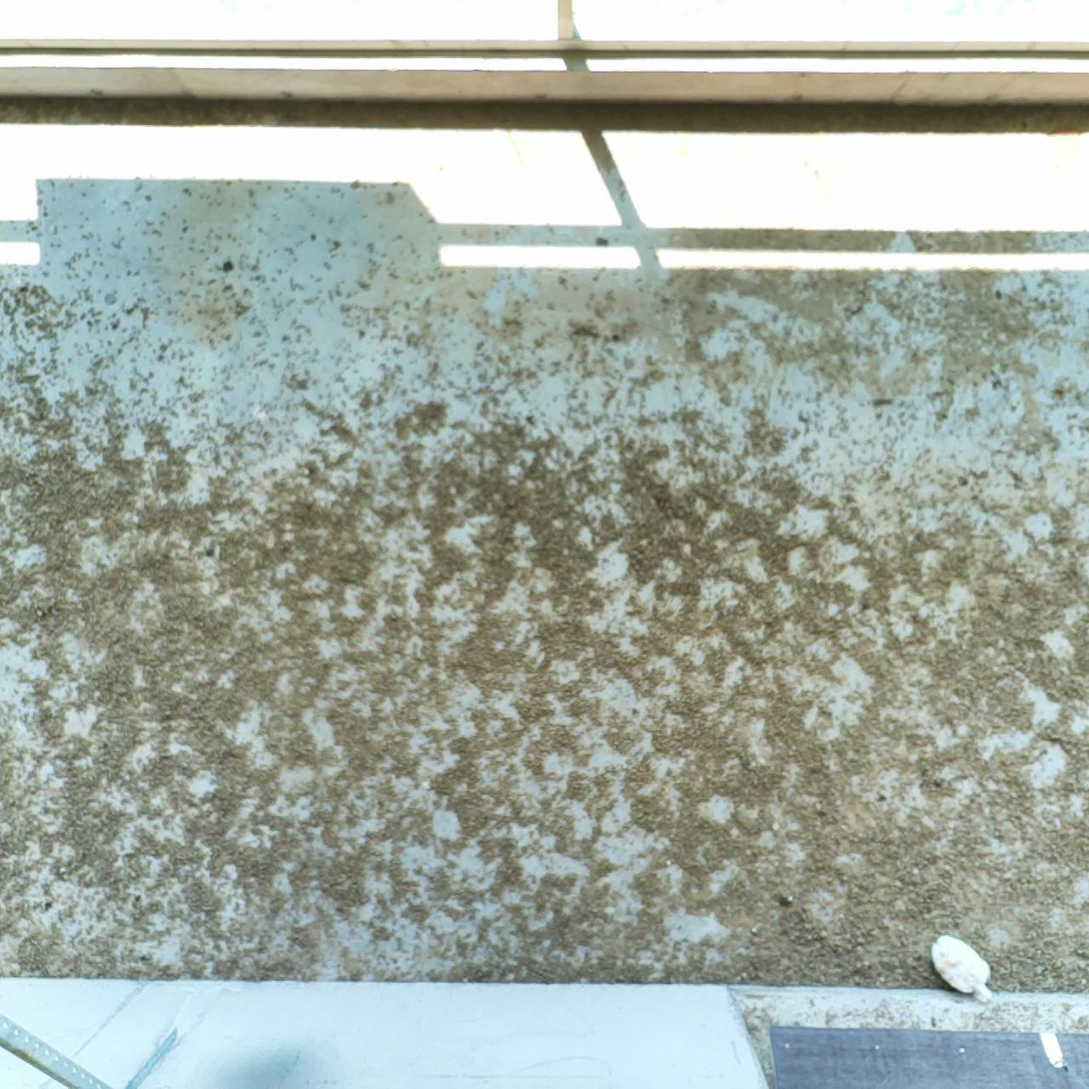chicken: (926, 931, 998, 1008)
